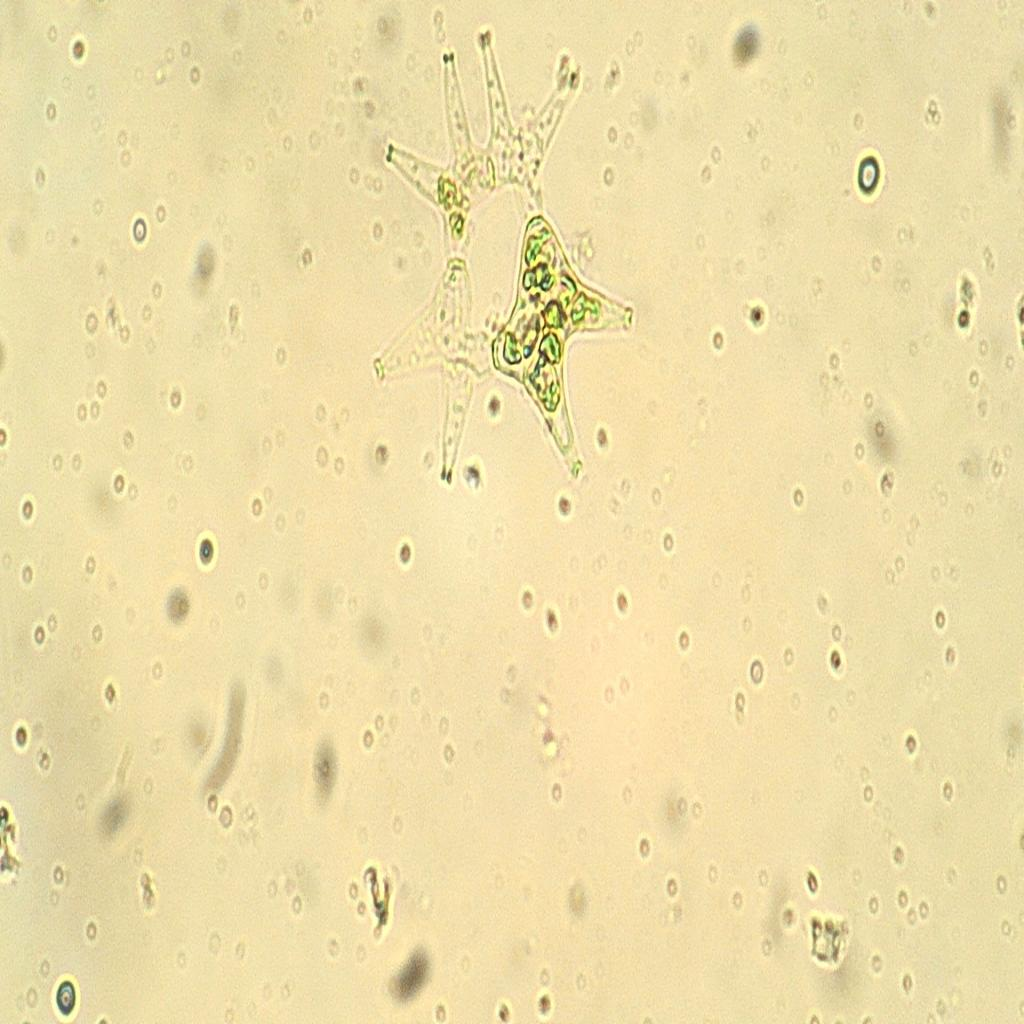Pediastrum_1F0: (360, 26, 641, 518)
